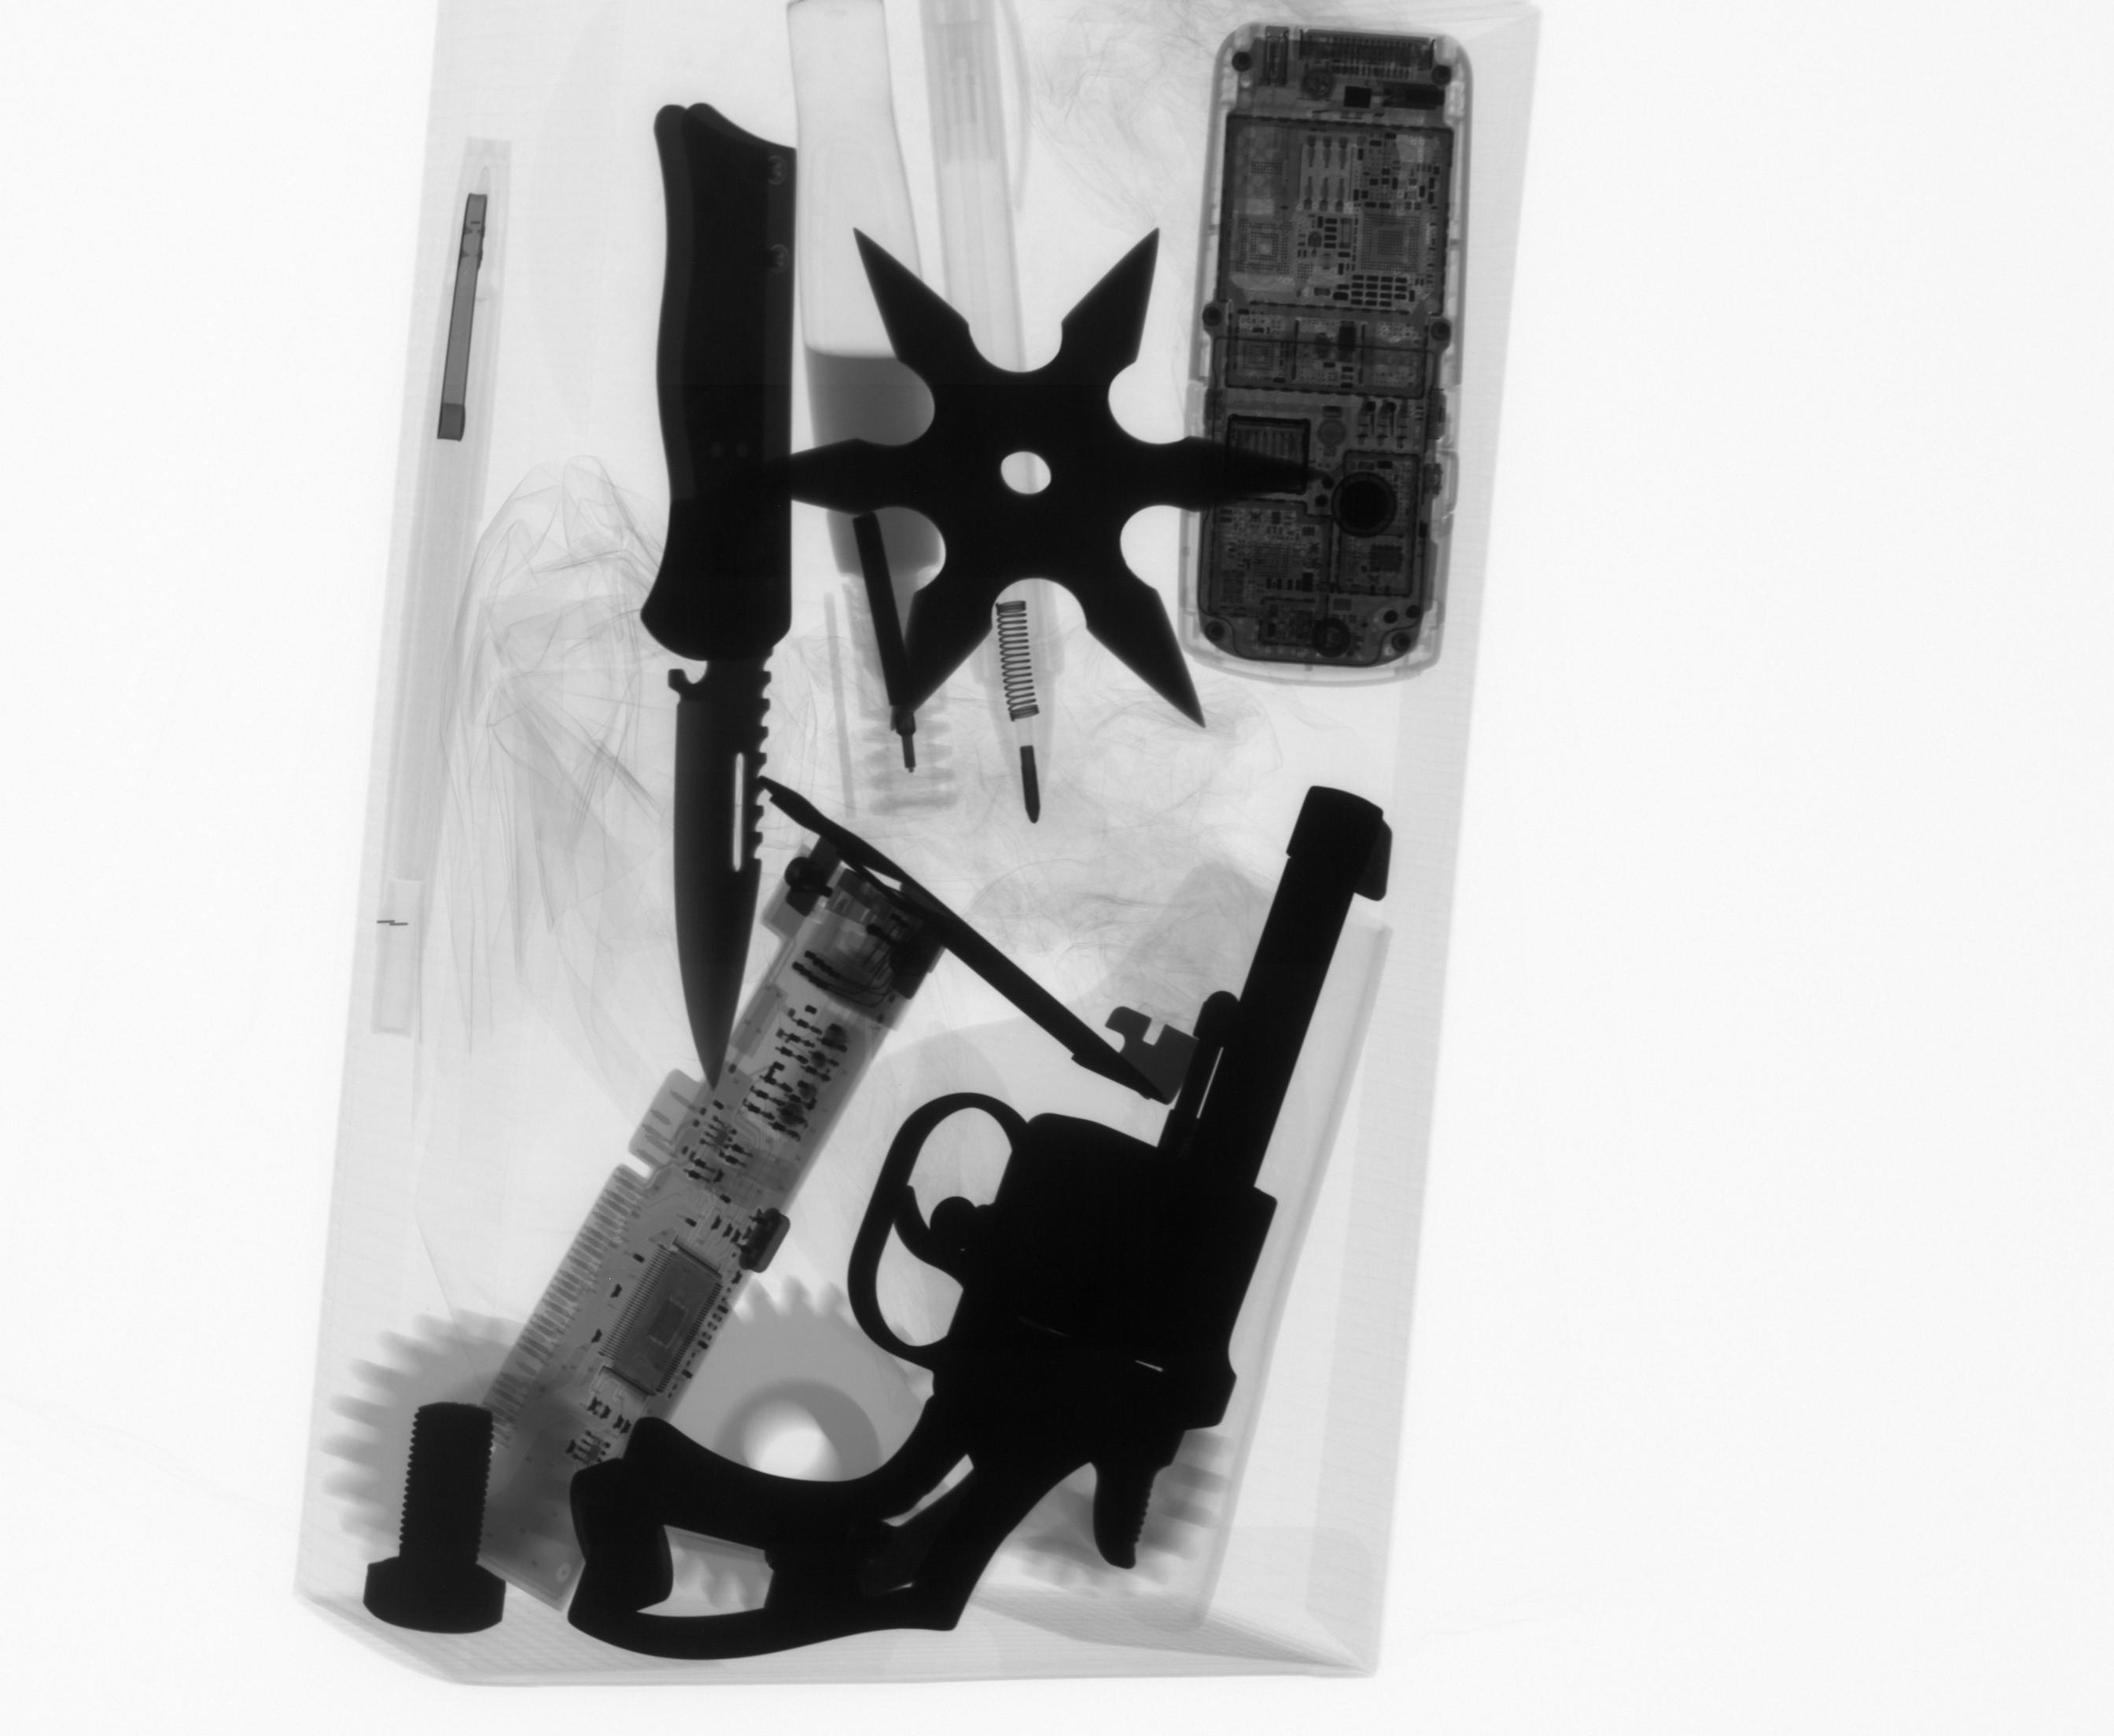Handgun: (557, 774, 1405, 1671)
Knife: (625, 90, 809, 1106)
Shuriken: (718, 216, 1326, 746)
